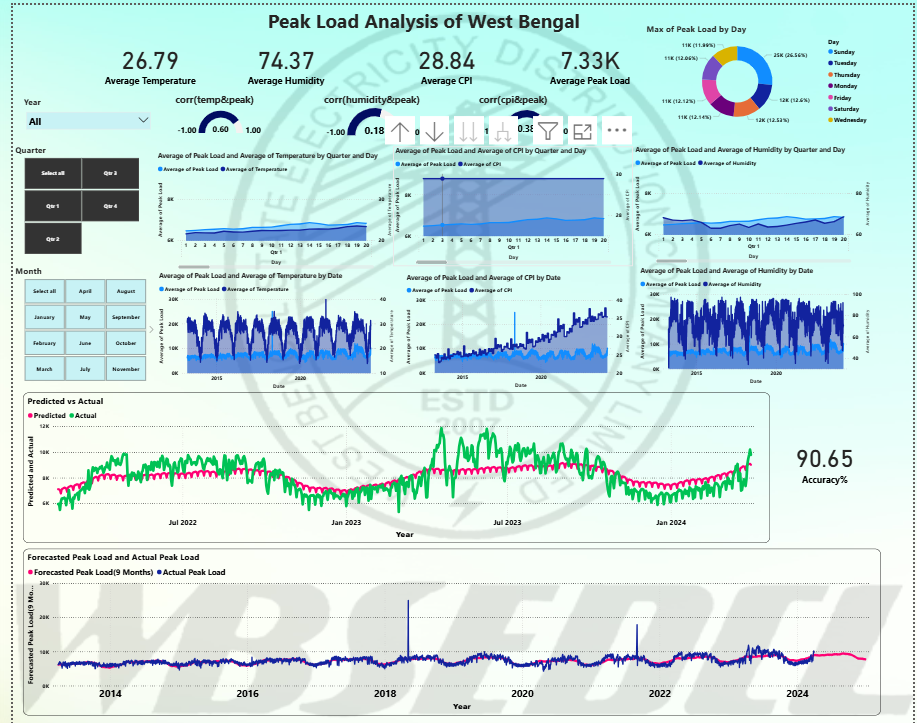

The page's visual inventory and layout, read from the dashboard file:
{"tool":"powerbi","page":{"name":"Page 1","canvas":[2000,1600],"ordinal":0},"visuals":[{"type":"slicer","title":"Year","fields":{"Values":["WB_power_daily.Date.Variation.Date Hierarchy.Year"]},"box":[20.1,202.6,296.5,92.6],"z":0},{"type":"slicer","title":"Month","fields":{"Values":["WB_power_daily.Date.Variation.Date Hierarchy.Month"]},"box":[0,577.8,319.3,263.7],"z":1000},{"type":"slicer","title":"Quarter","fields":{"Values":["WB_power_daily.Date.Variation.Date Hierarchy.Quarter"]},"box":[0,308.8,303.6,251.6],"z":2000},{"type":"card","fields":{"Values":["Avg(Sheet1.humidity)"]},"box":[507.2,75.1,197.2,108.7],"z":3000},{"type":"card","fields":{"Values":["Avg(Sheet1.cpi)"]},"box":[866.8,75.1,194.5,108.7],"z":4000},{"type":"card","fields":{"Values":["Avg(Sheet1.temp)"]},"box":[193.2,75.1,221.4,108.7],"z":5000},{"type":"card","fields":{"Values":["Avg(Sheet1.peak_load)"]},"box":[1186.1,75.1,193.2,108.7],"z":6000},{"type":"areaChart","fields":{"Y":["Avg(WB_power_daily.Peak Load)"],"Y2":["Avg(WB_power_daily.Temperature)"],"Category":["WB_power_daily.Date.Variation.Date Hierarchy.Year"]},"box":[319.3,591.7,532.7,267.2],"z":7000},{"type":"areaChart","fields":{"Y":["Avg(WB_power_daily.Peak Load)"],"Category":["WB_power_daily.Date.Variation.Date Hierarchy.Year"],"Y2":["Avg(WB_power_daily.Humidity)"]},"box":[1389.8,581.3,520.5,268.9],"z":8000},{"type":"areaChart","fields":{"Y":["Avg(WB_power_daily.Peak Load)"],"Y2":["Avg(WB_power_daily.CPI)"],"Category":["WB_power_daily.Date.Variation.Date Hierarchy.Year"]},"box":[869.3,595.1,508.4,263.7],"z":9000},{"type":"donutChart","fields":{"Category":["WB_power_daily.Day"],"Y":["Max(WB_power_daily.Peak Load)"]},"box":[1402,38.2,508.4,237.7],"z":10000},{"type":"gauge","title":"corr(temp&peak)","fields":{"Y":["WB_power_daily.corr_temp"]},"box":[354.2,194.5,205.3,107.3],"z":11000},{"type":"gauge","title":"corr(humidity&peak)","fields":{"Y":["WB_power_daily.corr_humidity"]},"box":[687.3,195.2,227.5,106.5],"z":12000},{"type":"gauge","title":"corr(cpi&peak)","fields":{"Y":["WB_power_daily.corr_cpi"]},"box":[1029.4,195.2,213,108.1],"z":13000},{"type":"textbox","box":[559.9,0,850.3,74.2],"z":14000},{"type":"areaChart","fields":{"Y":["Avg(WB_power_daily.Peak Load)"],"Y2":["Avg(WB_power_daily.Temperature)"],"Category":["WB_power_daily.Date.Variation.Date Hierarchy.Quarter","WB_power_daily.Date.Variation.Date Hierarchy.Day"]},"box":[316.2,324.3,532.4,266.2],"z":15000},{"type":"areaChart","fields":{"Y":["Avg(WB_power_daily.Peak Load)"],"Y2":["Avg(WB_power_daily.CPI)"],"Category":["WB_power_daily.Date.Variation.Date Hierarchy.Quarter","WB_power_daily.Date.Variation.Date Hierarchy.Day"]},"box":[845.8,313.9,531.9,267],"z":16000},{"type":"areaChart","fields":{"Y":["Avg(WB_power_daily.Peak Load)"],"Y2":["Avg(WB_power_daily.Humidity)"],"Category":["WB_power_daily.Date.Variation.Date Hierarchy.Quarter","WB_power_daily.Date.Variation.Date Hierarchy.Day"]},"box":[1377.7,309.8,531.9,267],"z":17000},{"type":"lineChart","title":" Predicted vs Actual","fields":{"Y":["Sum(result.predicted)","Sum(result.y)"],"Category":["result.ds.Variation.Date Hierarchy.Year","result.ds.Variation.Date Hierarchy.Quarter","result.ds.Variation.Date Hierarchy.Month","result.ds.Variation.Date Hierarchy.Day"]},"box":[22,860,1660,334],"z":18000},{"type":"lineChart","title":"Forecasted Peak Load and Actual Peak Load ","fields":{"Y":["Sum(forecast.yhat)","Sum(Sheet1.peak_load)"],"Category":["forecast.ds.Variation.Date Hierarchy.Year","forecast.ds.Variation.Date Hierarchy.Quarter","forecast.ds.Variation.Date Hierarchy.Month","forecast.ds.Variation.Date Hierarchy.Day"]},"box":[22,1208,1906,370],"z":19000},{"type":"card","fields":{"Values":["actual vs  predicted.Accuracy%"]},"box":[1696,898,214,234],"z":20000}]}

Visuals, with their boxes in screenshot pixels (x1, y1, x2, y2), scaled from the page's 2000x1600 canvas onto the 917x723 screenshot:
"Year" slicer: BBox(9, 92, 145, 133)
"Month" slicer: BBox(0, 261, 146, 380)
"Quarter" slicer: BBox(0, 140, 139, 253)
card - Avg(Sheet1.humidity): BBox(233, 34, 323, 83)
card - Avg(Sheet1.cpi): BBox(397, 34, 487, 83)
card - Avg(Sheet1.temp): BBox(89, 34, 190, 83)
card - Avg(Sheet1.peak_load): BBox(544, 34, 632, 83)
areaChart - Avg(WB_power_daily.Peak Load) x Avg(WB_power_daily.Temperature): BBox(146, 267, 391, 388)
areaChart - Avg(WB_power_daily.Peak Load) x WB_power_daily.Date.Variation.Date Hierarchy.Year: BBox(637, 263, 876, 384)
areaChart - Avg(WB_power_daily.Peak Load) x Avg(WB_power_daily.CPI): BBox(399, 269, 632, 388)
donutChart - WB_power_daily.Day x Max(WB_power_daily.Peak Load): BBox(643, 17, 876, 125)
"corr(temp&peak)" gauge: BBox(162, 88, 257, 136)
"corr(humidity&peak)" gauge: BBox(315, 88, 419, 136)
"corr(cpi&peak)" gauge: BBox(472, 88, 570, 137)
textbox: BBox(257, 0, 647, 34)
areaChart - Avg(WB_power_daily.Peak Load) x Avg(WB_power_daily.Temperature): BBox(145, 147, 389, 267)
areaChart - Avg(WB_power_daily.Peak Load) x Avg(WB_power_daily.CPI): BBox(388, 142, 632, 262)
areaChart - Avg(WB_power_daily.Peak Load) x Avg(WB_power_daily.Humidity): BBox(632, 140, 876, 261)
" Predicted vs Actual" lineChart: BBox(10, 389, 771, 540)
"Forecasted Peak Load and Actual Peak Load " lineChart: BBox(10, 546, 884, 713)
card - actual vs  predicted.Accuracy%: BBox(778, 406, 876, 512)
